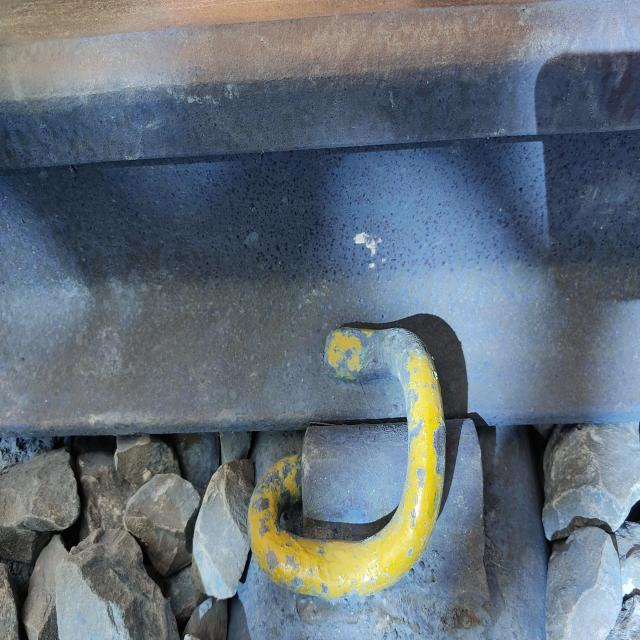Good Fasteners: (248, 327, 489, 622)
